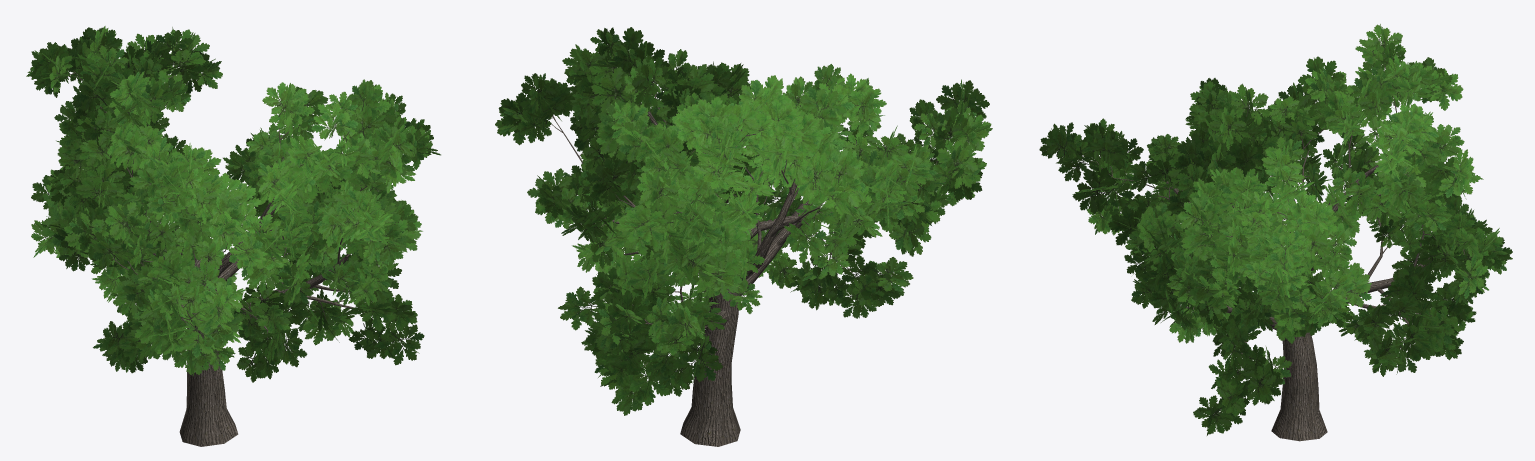
The model's file is nature-green-broad-oak.glb.
3 renders of one model, left to right at view 1: azimuth 30°, elevation 25°; view 2: azimuth 150°, elevation 25°; view 3: azimuth 270°, elevation 25°, orthographic. The views are drawn at different scales.
Visible parts, largest first — view 1: nature-green-broad-oak; view 2: nature-green-broad-oak; view 3: nature-green-broad-oak.
Part boxes in pixels (left/top/right/bottom): nature-green-broad-oak: left=26, top=26, right=440, bottom=446; nature-green-broad-oak: left=495, top=27, right=992, bottom=446; nature-green-broad-oak: left=1039, top=24, right=1512, bottom=441.
Size of the model in its own units: 12.68 by 11.69 by 14.01.
2 materials, 2 textured.
